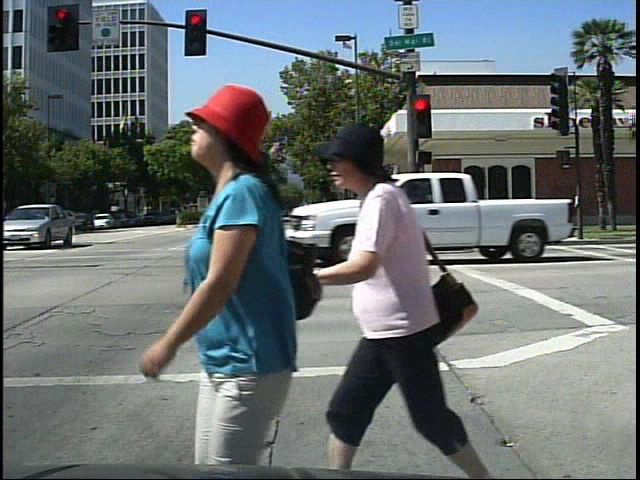person: (107, 65, 333, 472), (323, 115, 499, 479)
